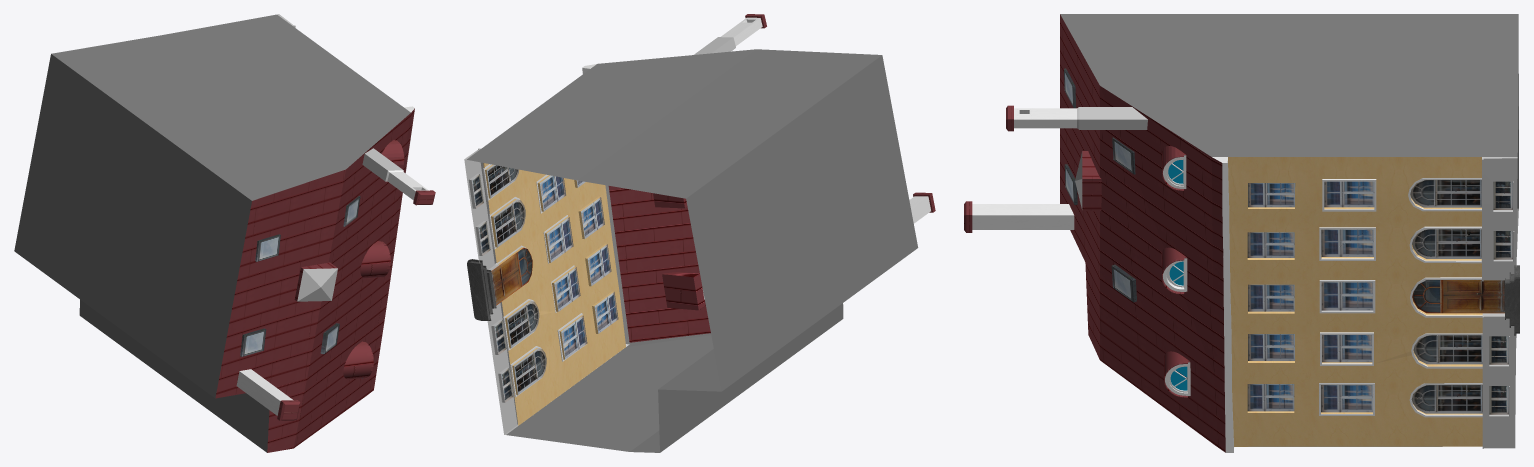
File: Rataskaevu_4.obj
3 renders of one model, left to right at view 1: azimuth 30°, elevation 25°; view 2: azimuth 150°, elevation 25°; view 3: azimuth 270°, elevation 25°, orthographic. The views are drawn at different scales.
Visible parts, largest first — view 1: Rataskaevu_4; view 2: Rataskaevu_4; view 3: Rataskaevu_4.
Part boxes in pixels (x1,y1,x2,y2): Rataskaevu_4: (14,14,435,452); Rataskaevu_4: (464,14,935,452); Rataskaevu_4: (964,14,1519,452).
Bounding box in the file's own units: 12.81 × 13.11 × 19.97.
